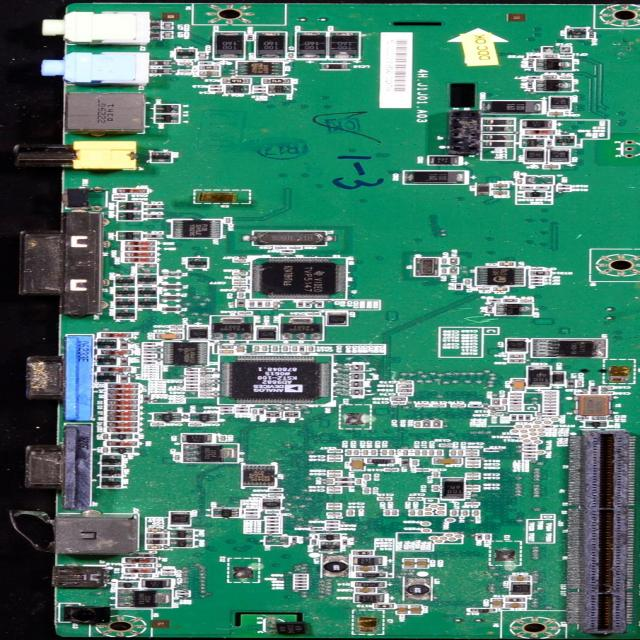Capacitor Jumper: (256, 231, 326, 245), (526, 366, 551, 387), (281, 323, 323, 334), (506, 338, 528, 353), (327, 311, 348, 326), (156, 333, 184, 340), (511, 378, 525, 391), (552, 372, 566, 384), (355, 567, 381, 572), (199, 71, 220, 77), (491, 598, 502, 607), (548, 111, 564, 117), (238, 311, 260, 315), (417, 559, 428, 567), (397, 606, 408, 614), (146, 544, 162, 549), (404, 559, 414, 567), (410, 606, 420, 614), (160, 22, 173, 28), (356, 588, 375, 592), (505, 604, 524, 608), (168, 325, 186, 329), (545, 164, 559, 169), (163, 32, 174, 38), (152, 422, 168, 426), (492, 191, 508, 195), (498, 262, 514, 266), (510, 577, 531, 580), (291, 346, 301, 352), (328, 458, 343, 462), (147, 528, 162, 532), (388, 449, 396, 456), (385, 468, 399, 472), (346, 509, 353, 517), (260, 346, 269, 352), (416, 404, 429, 408), (416, 468, 429, 472), (477, 287, 490, 291), (362, 449, 369, 456), (225, 217, 232, 224), (236, 346, 244, 352), (306, 346, 314, 352), (281, 346, 289, 352), (219, 350, 235, 353), (200, 369, 212, 373), (200, 394, 212, 398), (438, 444, 454, 447), (345, 450, 353, 456), (472, 510, 480, 516), (383, 510, 391, 516), (492, 184, 508, 187), (440, 268, 448, 274), (543, 400, 558, 403), (576, 417, 591, 420), (463, 453, 478, 456), (492, 287, 507, 290), (510, 392, 521, 396), (600, 386, 614, 389), (199, 388, 213, 391), (451, 404, 465, 407), (381, 450, 388, 456), (353, 449, 359, 456), (432, 472, 439, 478), (466, 473, 480, 476), (327, 479, 334, 485), (433, 485, 440, 491), (269, 494, 283, 497), (327, 506, 341, 509), (417, 510, 424, 516), (327, 513, 341, 516), (199, 52, 205, 59), (559, 76, 573, 79), (464, 279, 471, 285), (432, 404, 445, 407), (510, 405, 523, 408), (466, 450, 479, 453), (328, 455, 341, 458), (328, 471, 341, 474), (466, 485, 479, 488), (378, 497, 391, 500), (308, 313, 320, 316), (254, 346, 260, 352), (400, 393, 412, 396), (509, 408, 521, 411), (415, 422, 421, 428), (190, 423, 202, 426), (458, 450, 464, 456), (430, 450, 436, 456), (422, 450, 428, 456), (436, 450, 442, 456), (415, 450, 421, 456), (451, 450, 457, 456), (412, 460, 418, 466), (364, 474, 370, 480), (327, 487, 339, 490), (392, 510, 398, 516), (451, 510, 457, 516), (441, 258, 447, 264), (364, 488, 371, 493), (201, 391, 212, 394), (180, 62, 191, 65), (542, 55, 558, 57), (178, 70, 194, 72), (577, 381, 583, 386), (252, 409, 258, 414), (371, 450, 376, 456), (403, 450, 408, 456), (410, 510, 415, 516), (463, 510, 468, 516), (399, 381, 413, 383), (601, 392, 615, 394), (466, 489, 480, 491), (327, 491, 341, 493), (409, 498, 423, 500), (560, 56, 574, 58), (171, 330, 184, 332), (544, 392, 557, 394), (544, 398, 557, 400), (392, 402, 405, 404), (328, 450, 341, 452), (467, 477, 480, 479), (466, 503, 479, 505), (327, 504, 340, 506), (246, 516, 259, 518), (274, 346, 278, 352), (200, 376, 212, 378), (545, 395, 557, 397), (509, 396, 521, 398), (544, 404, 556, 406), (544, 407, 556, 409), (490, 413, 502, 415), (329, 474, 341, 476), (356, 480, 362, 484), (518, 178, 522, 184), (114, 195, 126, 197), (530, 268, 542, 270), (201, 378, 211, 380), (503, 399, 507, 404)
Connector: (567, 429, 640, 629), (17, 212, 101, 315), (23, 424, 90, 511), (26, 336, 91, 421), (19, 514, 141, 554), (46, 12, 153, 48), (42, 52, 150, 86), (11, 142, 137, 170), (64, 93, 146, 134), (50, 565, 106, 588)
IC: (220, 356, 332, 404), (253, 259, 347, 298), (532, 339, 607, 358), (165, 342, 208, 366), (118, 589, 172, 607), (173, 219, 223, 238), (477, 267, 525, 286), (243, 465, 276, 487), (238, 62, 283, 75), (212, 508, 239, 518), (154, 413, 182, 421), (190, 413, 217, 421), (264, 499, 281, 510), (585, 421, 607, 427), (116, 582, 138, 588), (320, 534, 340, 540)
Resistor Jumper: (398, 384, 414, 389), (449, 257, 459, 265), (489, 406, 504, 411), (376, 604, 394, 608), (448, 268, 460, 274), (542, 75, 559, 79), (397, 388, 413, 392), (591, 417, 607, 421), (433, 420, 441, 428), (469, 404, 484, 408), (142, 342, 156, 346), (391, 397, 405, 401), (266, 516, 280, 520), (423, 421, 430, 428), (341, 539, 348, 546), (509, 355, 525, 358), (508, 359, 524, 362), (492, 400, 500, 406), (246, 508, 258, 512), (219, 410, 233, 413), (510, 415, 517, 421), (294, 577, 308, 580), (144, 346, 157, 349), (220, 407, 233, 410), (326, 521, 339, 524), (114, 198, 127, 201), (144, 351, 156, 354), (144, 358, 156, 361), (144, 362, 156, 365), (187, 378, 199, 381), (525, 414, 531, 420), (518, 415, 524, 421), (326, 524, 338, 527), (311, 540, 317, 546), (558, 188, 570, 191), (299, 345, 304, 352), (188, 369, 198, 372), (292, 536, 297, 542), (185, 388, 199, 390), (235, 407, 249, 409), (266, 521, 280, 523), (326, 528, 340, 530), (310, 528, 324, 530), (293, 575, 307, 577), (557, 186, 571, 188), (521, 186, 535, 188), (185, 385, 198, 387), (509, 402, 522, 404), (266, 524, 279, 526), (266, 528, 279, 530), (294, 580, 307, 582), (144, 355, 156, 357), (186, 372, 198, 374), (188, 376, 200, 378), (510, 399, 522, 401), (236, 410, 248, 412), (544, 413, 556, 415), (294, 584, 306, 586), (296, 587, 308, 589), (544, 410, 555, 412), (268, 530, 278, 532), (184, 382, 195, 383), (247, 513, 258, 514), (536, 187, 547, 188), (464, 295, 464, 298)
Transistor: (496, 303, 532, 316), (536, 80, 573, 92), (536, 59, 572, 71), (154, 114, 180, 124), (520, 138, 545, 148), (98, 338, 118, 349), (554, 136, 576, 146), (151, 152, 171, 163), (320, 542, 341, 552), (97, 372, 117, 382), (98, 355, 116, 365), (226, 85, 248, 93), (270, 86, 292, 94), (156, 104, 178, 112), (177, 50, 196, 59), (567, 31, 587, 35)
